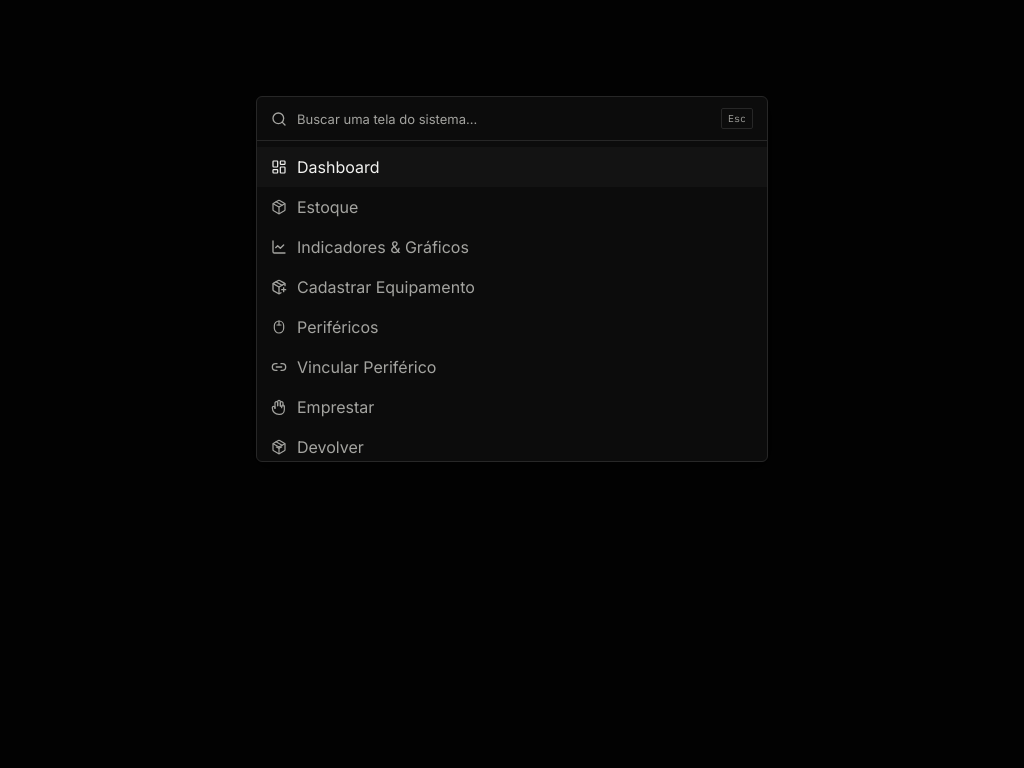
Test: CommandPalette › mostra a mensagem de vazio quando a busca não encontra nenhum destino
The width and height of the screenshot is (1024, 768).
Type "xyz-inexistente" into the field labelled "Buscar uma tela do sistema" at (504, 118), box [297,108,711,128]
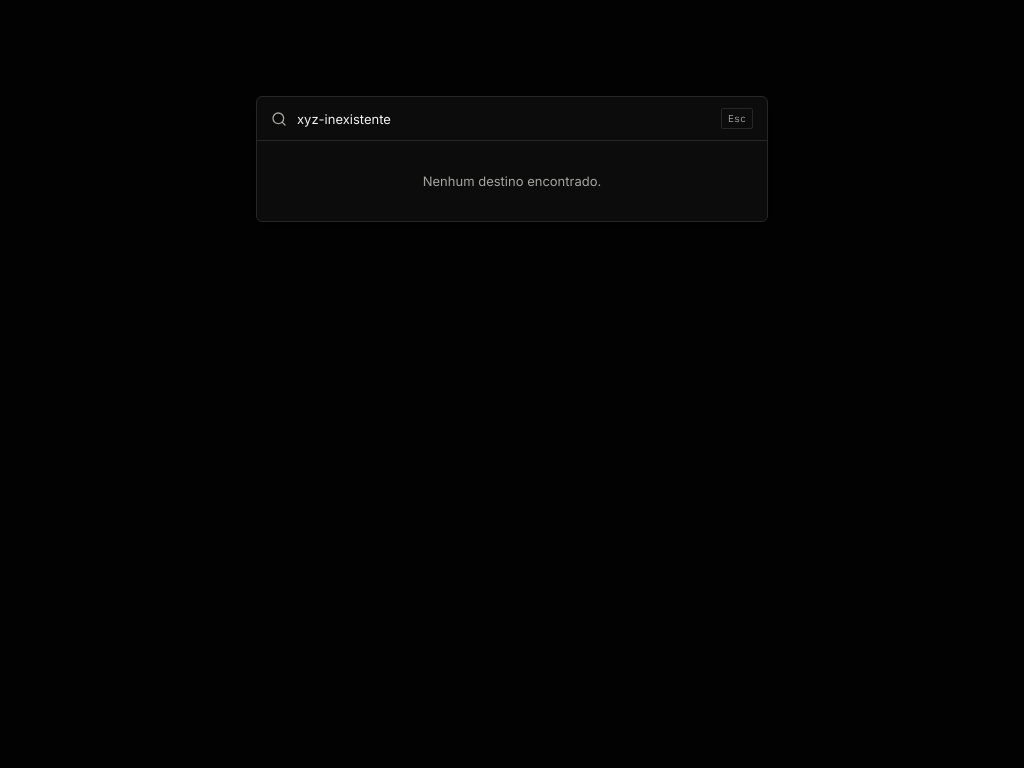
Result: the list item "Nenhum destino encontrado." is shown at [423,173,601,189]
